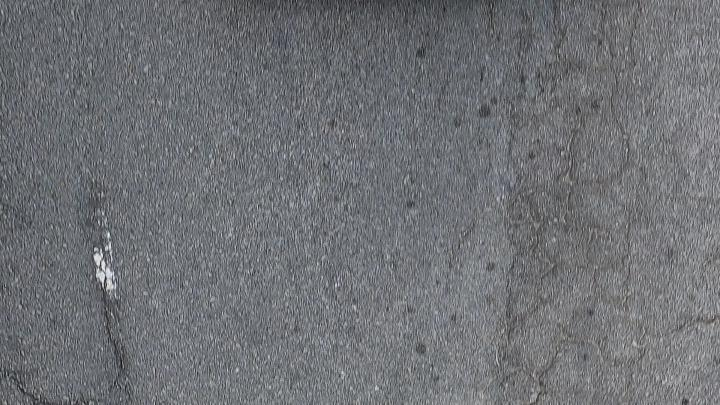Crack: (1, 203, 134, 403), (0, 208, 130, 404), (535, 0, 641, 216), (505, 244, 586, 405), (555, 114, 583, 214), (544, 0, 583, 54), (528, 355, 556, 404), (669, 310, 720, 336), (540, 257, 584, 283), (608, 39, 627, 88), (671, 313, 719, 332), (620, 126, 631, 170), (630, 13, 637, 46), (509, 317, 516, 339), (630, 51, 636, 68), (608, 93, 614, 107)
